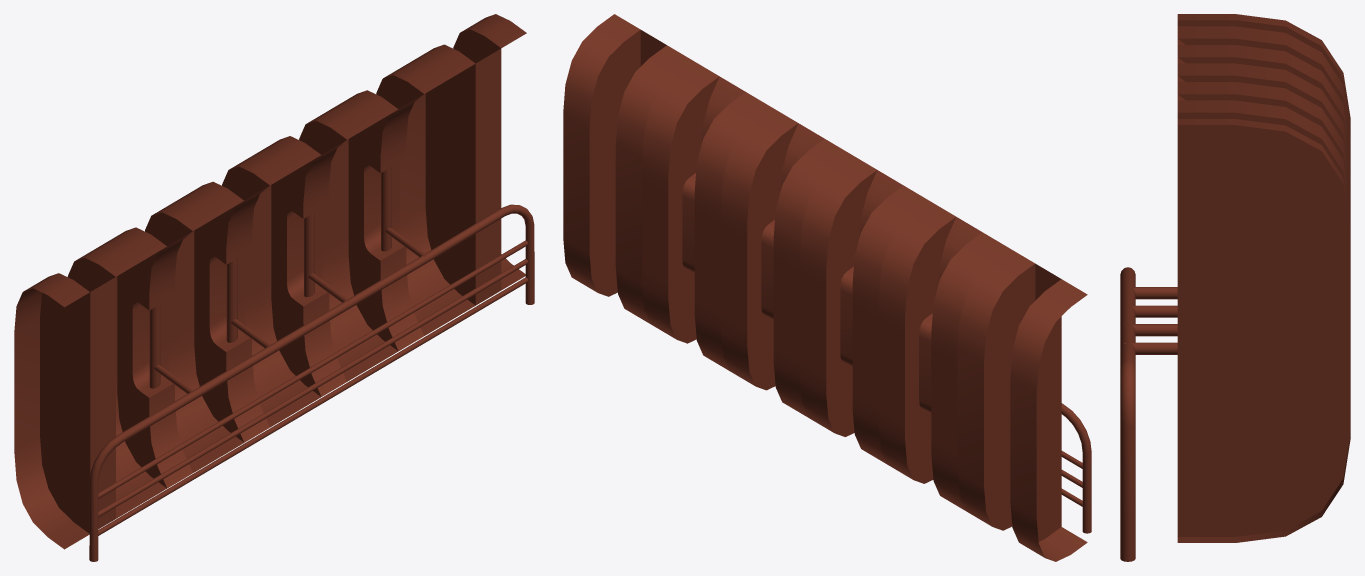
File: Room_Wall_Stairs_A.FBX
The picture shows the model from 3 angles, left to right: view 1: azimuth 30°, elevation 25°; view 2: azimuth 150°, elevation 25°; view 3: azimuth 270°, elevation 25°; orthographic projection. The views are drawn at different scales.
Parts seen in each view (by area): view 1: Room_Wall_Stairs_A; view 2: Room_Wall_Stairs_A; view 3: Room_Wall_Stairs_A.
Boxes of the visible parts, bbox=[...] form: Room_Wall_Stairs_A: bbox=[14, 14, 534, 561]; Room_Wall_Stairs_A: bbox=[563, 14, 1091, 561]; Room_Wall_Stairs_A: bbox=[1120, 14, 1350, 561].
Bounding box in the file's own units: 600 × 505 × 150.
